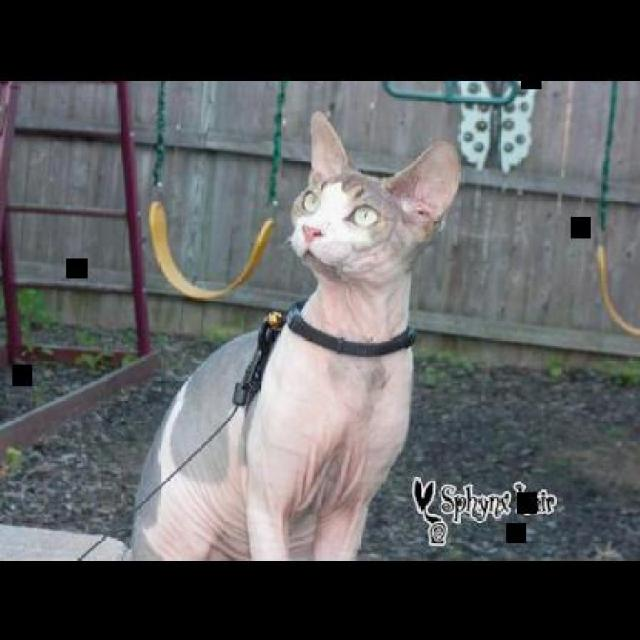unauthorized: (128, 109, 462, 560)
